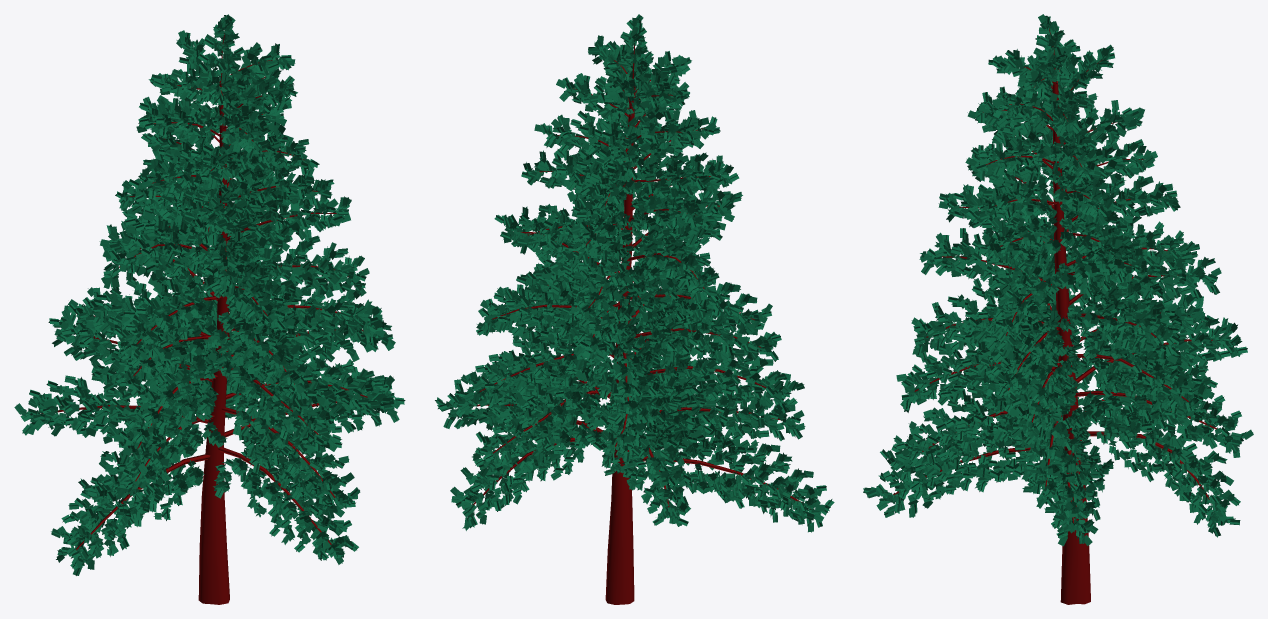
Rendered from arbre.fbx.
3 renders of one model, left to right at view 1: azimuth 30°, elevation 25°; view 2: azimuth 150°, elevation 25°; view 3: azimuth 270°, elevation 25°, orthographic. The views are drawn at different scales.
Parts seen in each view (by area): view 1: Foliage001; view 2: Foliage001; view 3: Foliage001.
Boxes of the visible parts, box(x1,y1,x2,y2) form: Foliage001: box(14, 14, 405, 604); Foliage001: box(435, 14, 834, 604); Foliage001: box(863, 14, 1253, 604).
Bounding box in the file's own units: 419 × 647 × 393.
